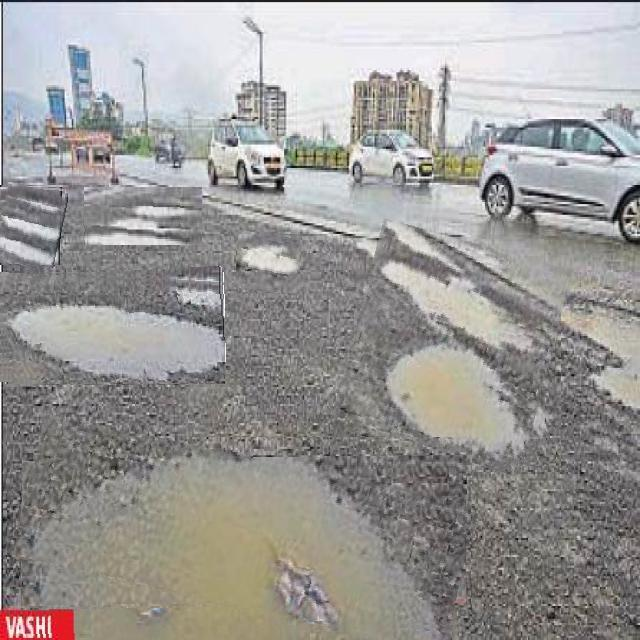Pothole: (16, 437, 472, 634), (341, 229, 561, 466), (0, 269, 225, 384), (84, 187, 202, 245), (0, 184, 65, 265), (236, 232, 302, 293)
